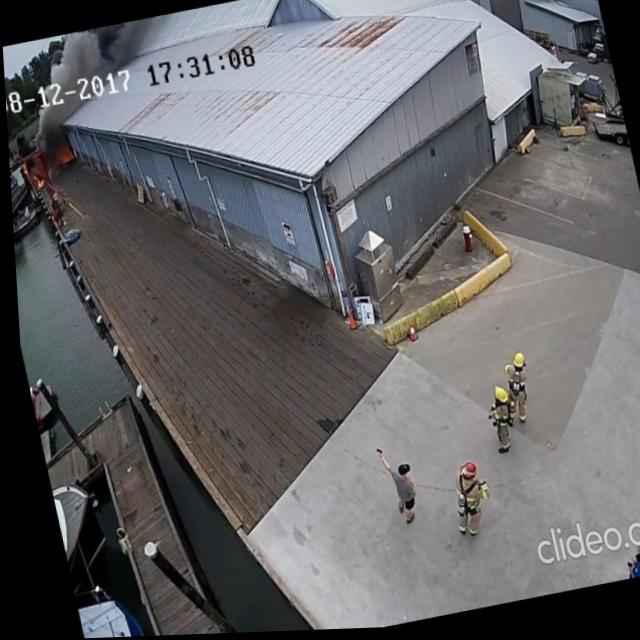fire: (23, 161, 44, 191), (55, 145, 75, 166)
